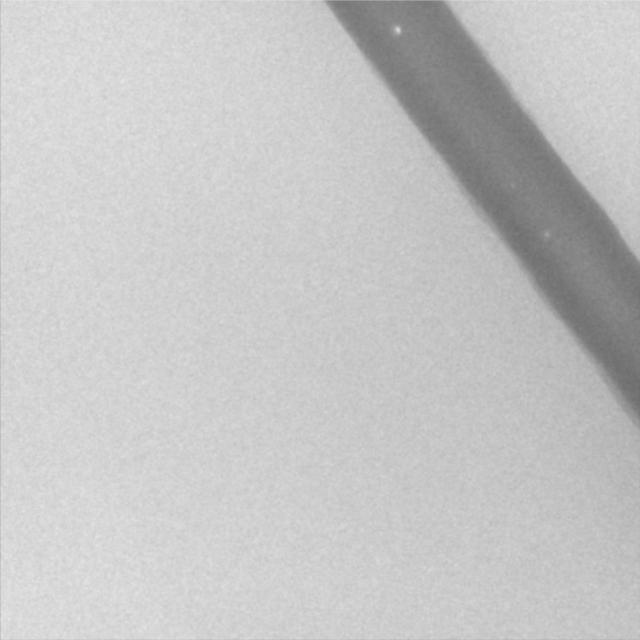air hole: (391, 23, 403, 37)
